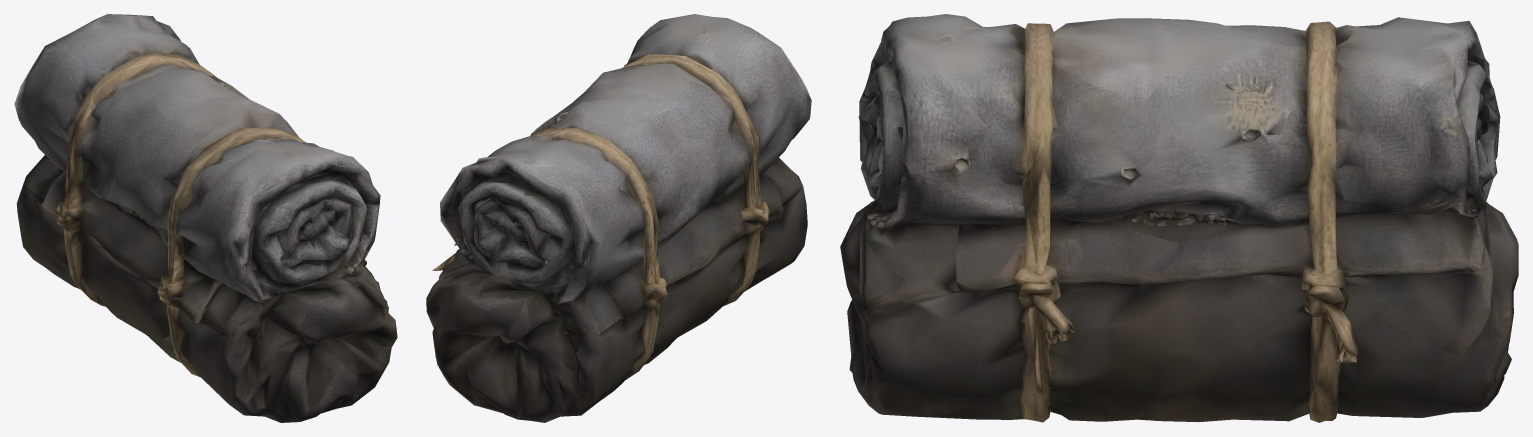
File: blanket-roll.glb
The picture shows the model from 3 angles, left to right: view 1: azimuth 30°, elevation 25°; view 2: azimuth 150°, elevation 25°; view 3: azimuth 270°, elevation 25°; orthographic projection. The views are drawn at different scales.
Parts seen in each view (by area): view 1: Supplied blanket-roll; view 2: Supplied blanket-roll; view 3: Supplied blanket-roll.
Part boxes in pixels (box(x1,y1,x2,y2)): Supplied blanket-roll: box(14, 14, 397, 422); Supplied blanket-roll: box(426, 14, 811, 422); Supplied blanket-roll: box(840, 14, 1518, 422).
Size of the model in its own units: 0.5396 by 0.5883 by 1.
1 material, 1 textured.
